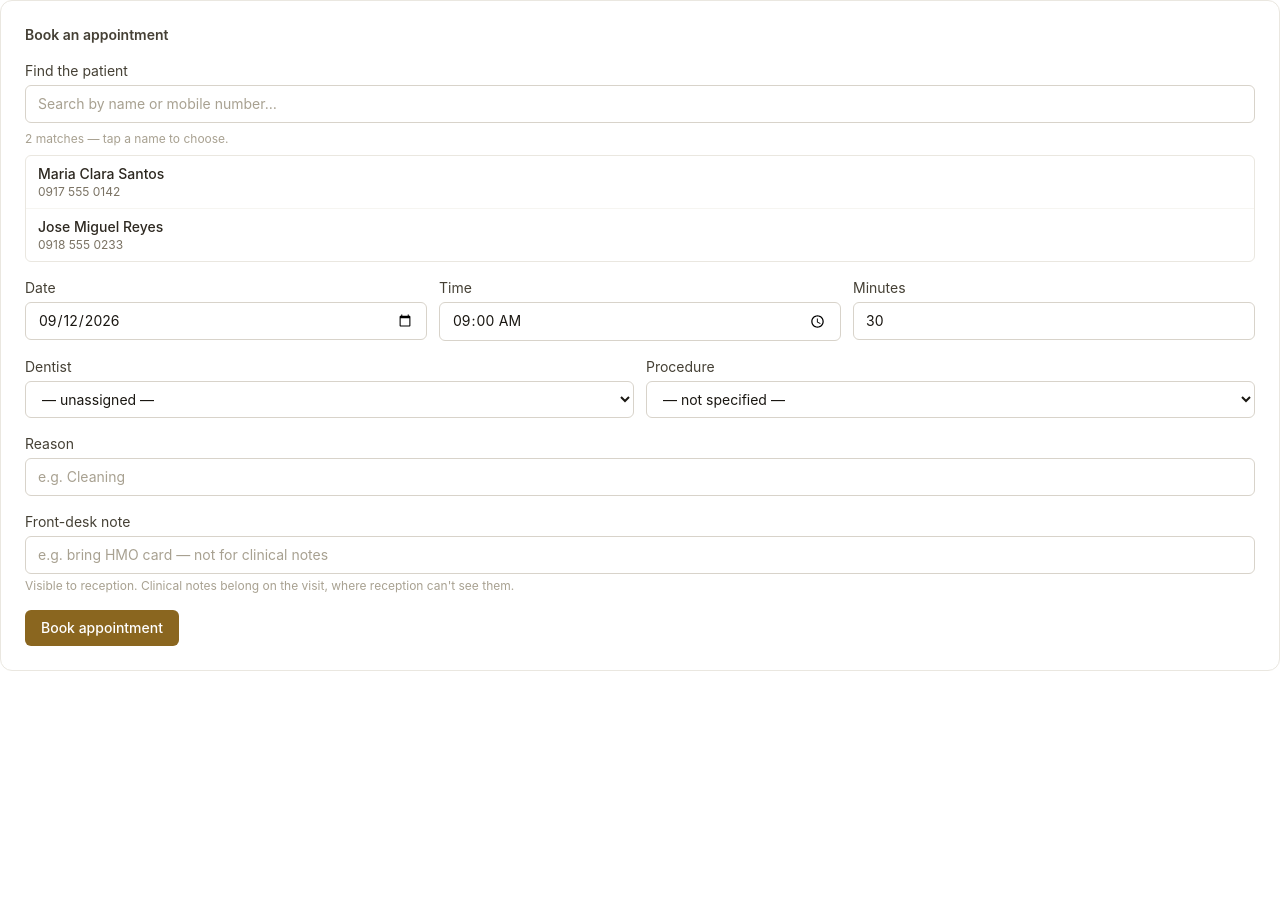
Test: BookAppointmentForm › lets the choice be changed
Click the text "Maria Clara Santos".
click(101, 174)  # box [38,165,164,182]
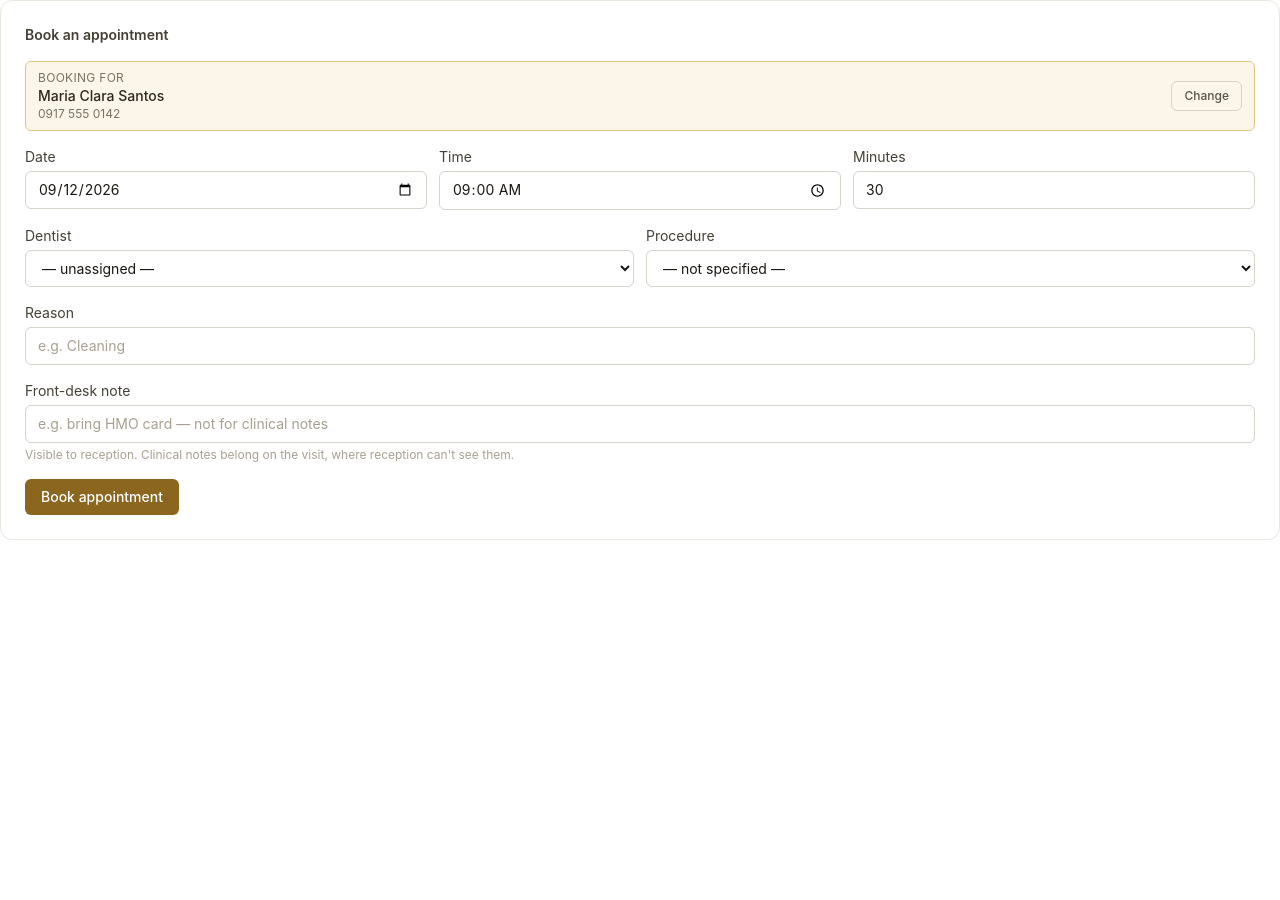
Click the button "Change".
click(1207, 96)  # box [1172,81,1242,111]
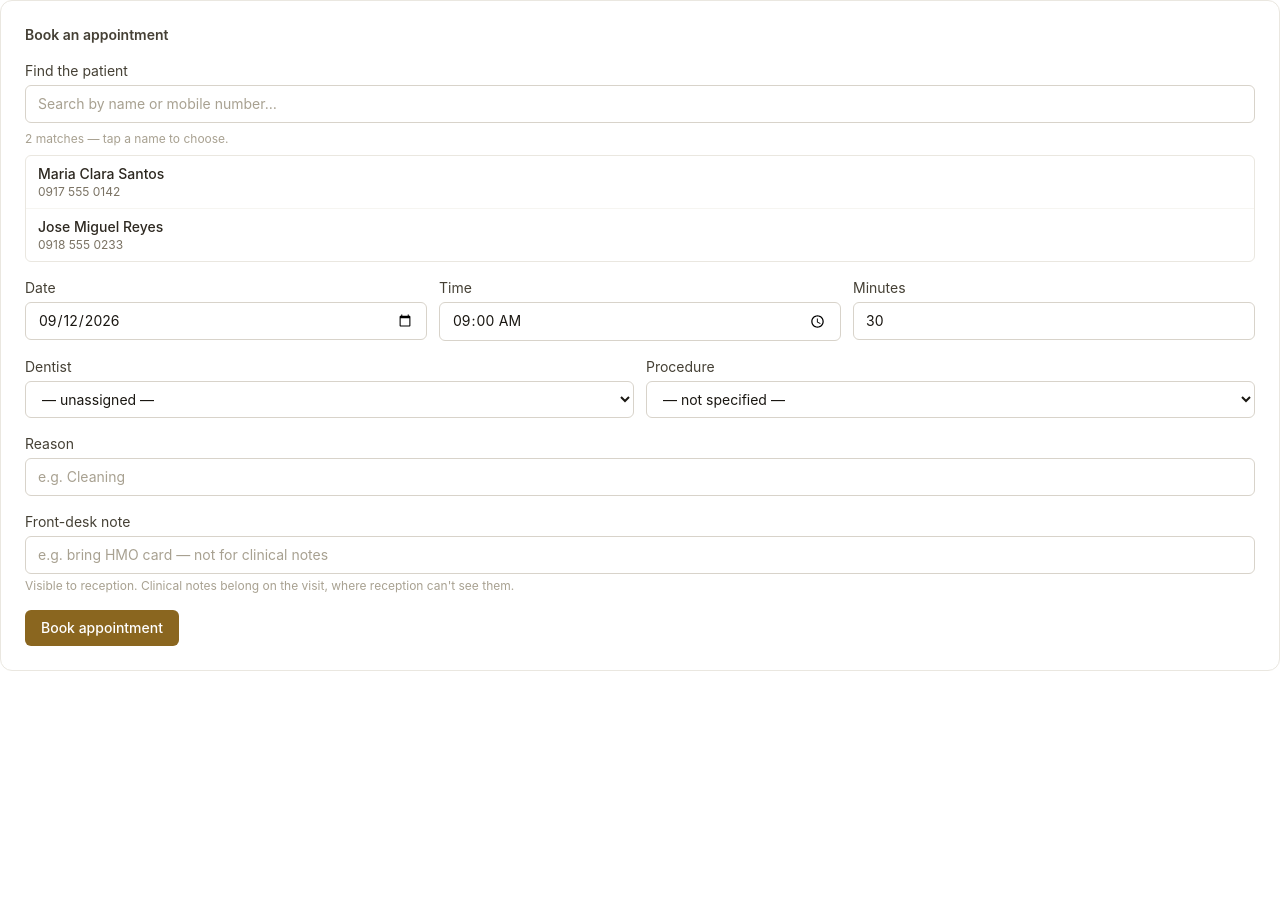
Expected: the field labelled "Find the patient" is shown, [25,85,1255,123]
Expected: the text "Booking for" is gone
